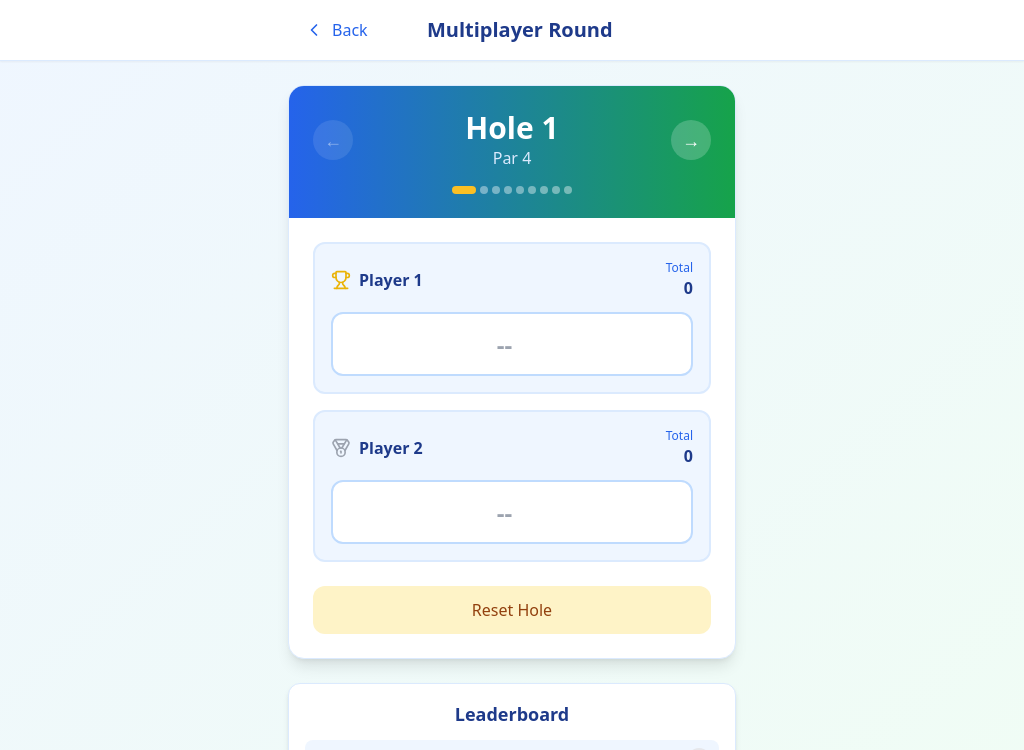
it: MultiplayerCardView Component › Navigation › navigates between holes using buttons
The image size is (1024, 750).
Expected: the text "Hole 1" is shown, [465,110,559,146]
Note: Navigate to next hole
Click the button named "Go to hole 2": (691, 140) [671,120,711,160]
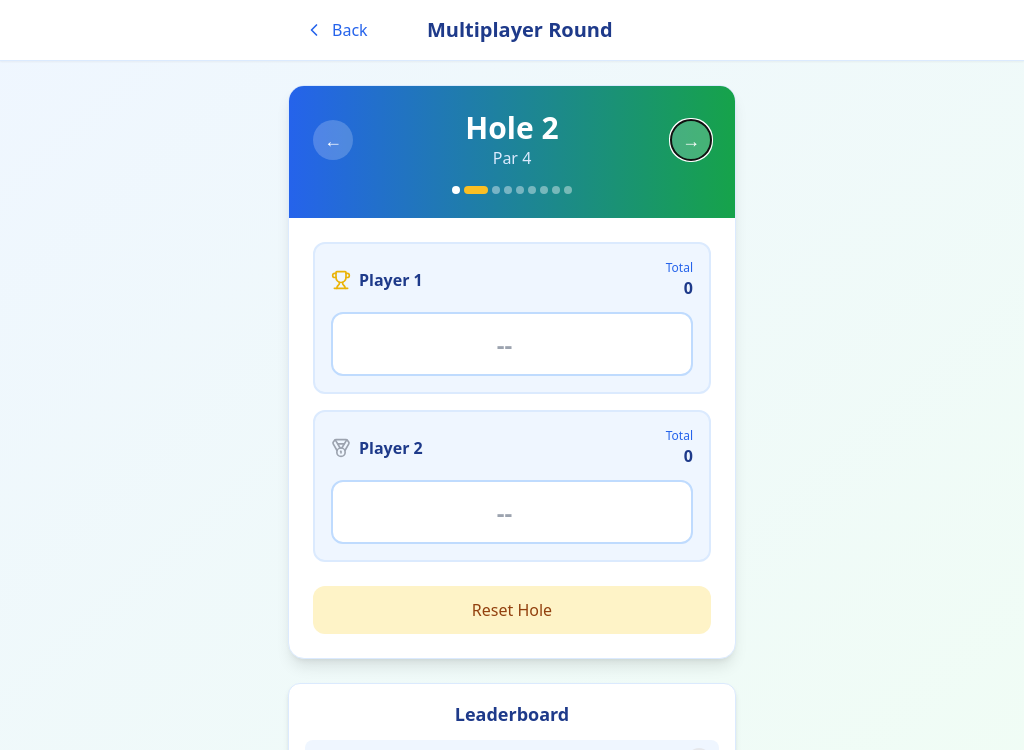
Result: the text "Hole 2" is shown at [465,110,559,146]
Note: Navigate back
Click the button named "Go to hole 1": (333, 140) [313,120,353,160]
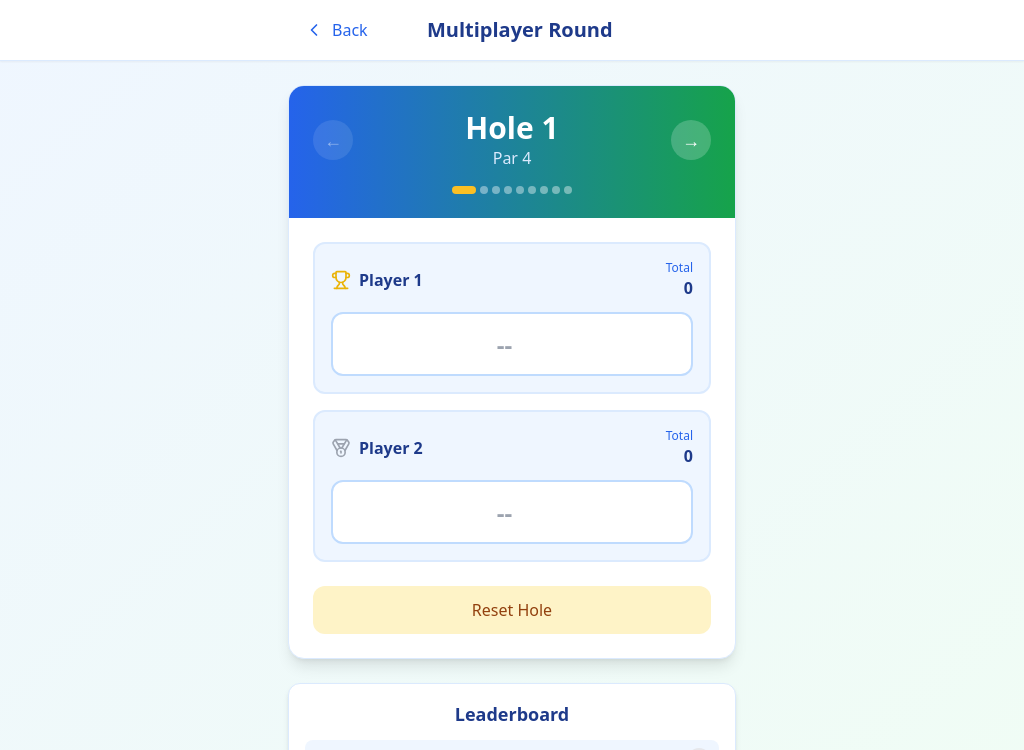
Result: the text "Hole 1" is shown at [465,110,559,146]
